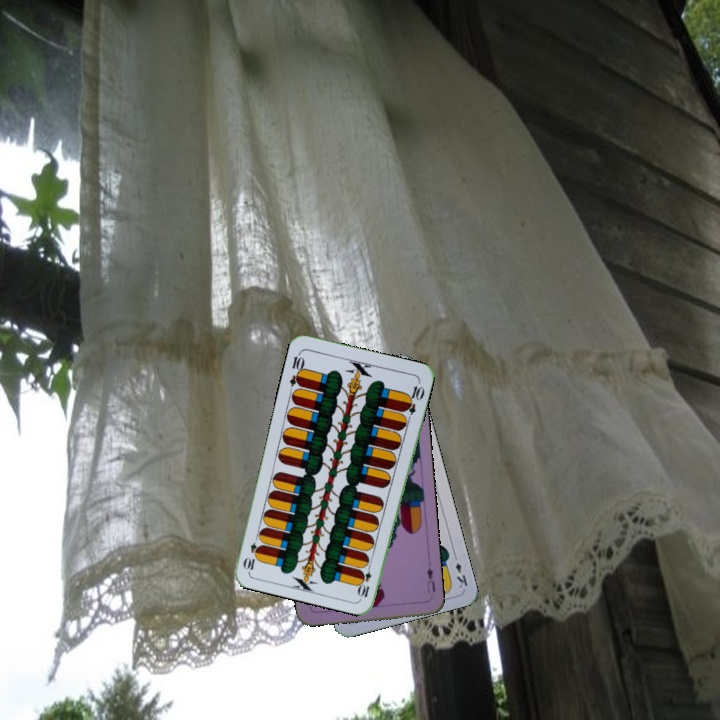E10: (285, 348, 307, 389), (356, 559, 374, 600)
EK: (449, 550, 470, 591)
EU: (423, 564, 438, 595)
